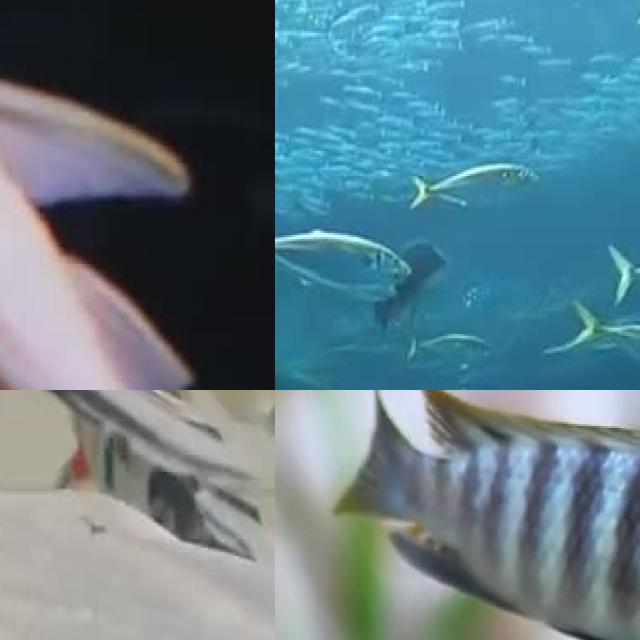fish: (0, 0, 275, 390), (331, 390, 640, 640), (131, 390, 275, 545)
